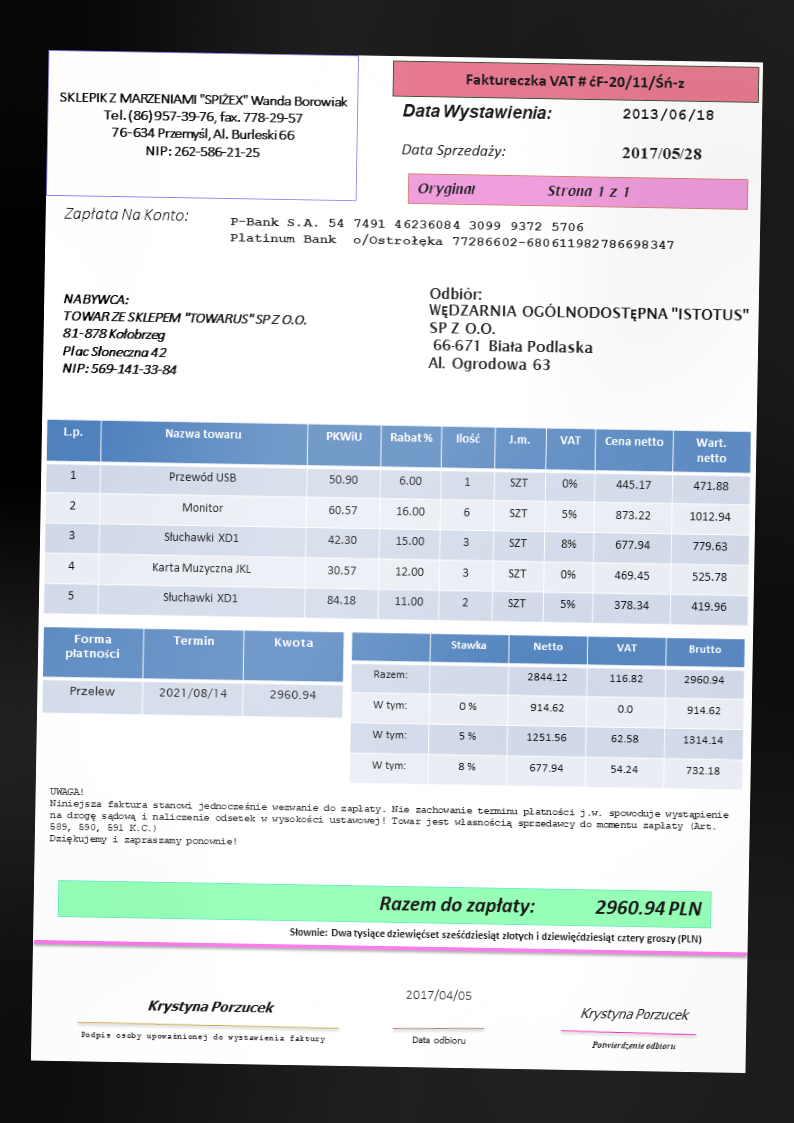Table: (42, 419, 753, 628), (348, 631, 748, 790), (40, 626, 344, 719)
TextBox: (45, 784, 731, 859), (426, 285, 752, 379), (58, 291, 312, 381), (56, 85, 349, 163), (227, 212, 678, 255), (287, 924, 704, 948), (376, 893, 704, 920), (78, 1027, 326, 1048), (464, 70, 687, 93), (418, 179, 634, 201), (401, 100, 554, 125), (61, 205, 192, 226), (146, 998, 277, 1019), (578, 1003, 692, 1025), (400, 142, 507, 161), (621, 105, 715, 126), (403, 983, 474, 1005), (621, 145, 702, 163), (590, 1039, 678, 1053), (410, 1032, 469, 1047)
